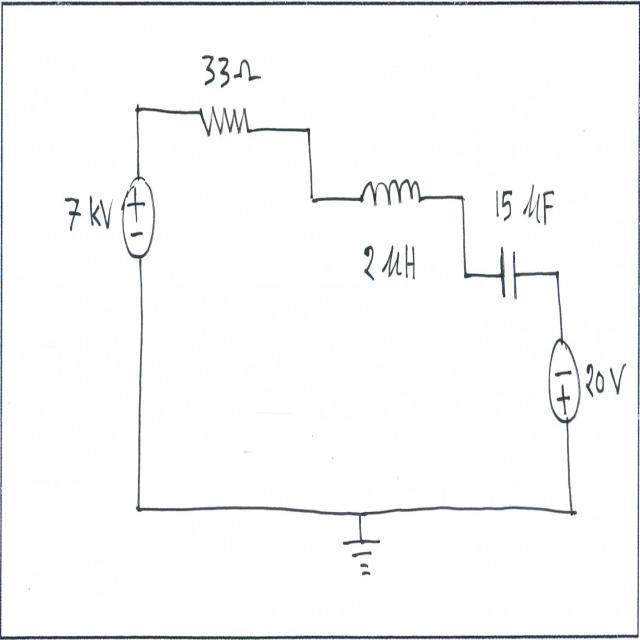capacitor: (496, 236, 523, 318)
ground: (337, 531, 388, 583)
inductor: (354, 171, 425, 223)
resistor: (193, 90, 256, 162)
voltage_source: (544, 329, 586, 440), (118, 177, 158, 269)
